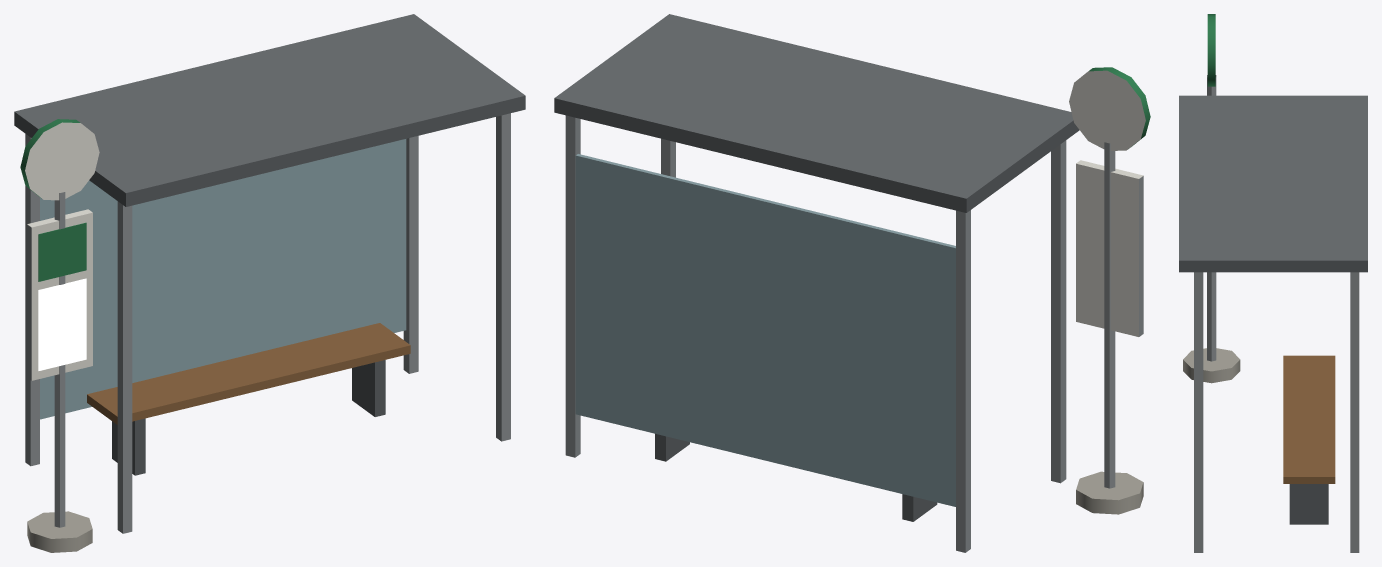
Rendered from tokyo_bus_stop.glb.
3 renders of one model, left to right at view 1: azimuth 30°, elevation 25°; view 2: azimuth 150°, elevation 25°; view 3: azimuth 270°, elevation 25°, orthographic. The views are drawn at different scales.
Visible parts, largest first — view 1: tokyo_bus_stop; view 2: tokyo_bus_stop; view 3: tokyo_bus_stop.
Part boxes in pixels (x1,y1,x2,y2): tokyo_bus_stop: (14, 14, 525, 552); tokyo_bus_stop: (554, 14, 1150, 552); tokyo_bus_stop: (1179, 14, 1367, 552).
Size of the model in its own units: 3.63 by 3 by 1.45.
1 material, 1 textured.
